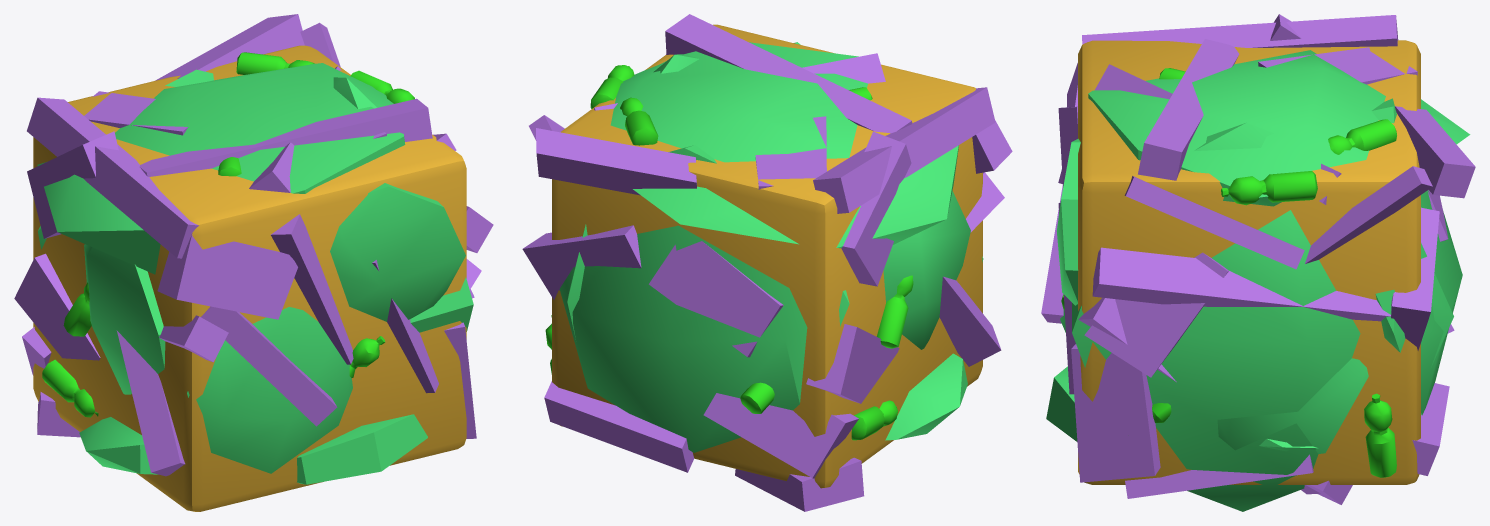
The model's file is Trash2.fbx.
3 renders of one model, left to right at view 1: azimuth 30°, elevation 25°; view 2: azimuth 150°, elevation 25°; view 3: azimuth 270°, elevation 25°, orthographic. The views are drawn at different scales.
Visible parts, largest first — view 1: Trash; view 2: Trash; view 3: Trash.
Part boxes in pixels (x1=…): Trash: x1=14, y1=14, x2=493, y2=511; Trash: x1=522, y1=14, x2=1012, y2=511; Trash: x1=1041, y1=14, x2=1475, y2=511.
Size of the model in its own units: 127 by 122 by 127.
